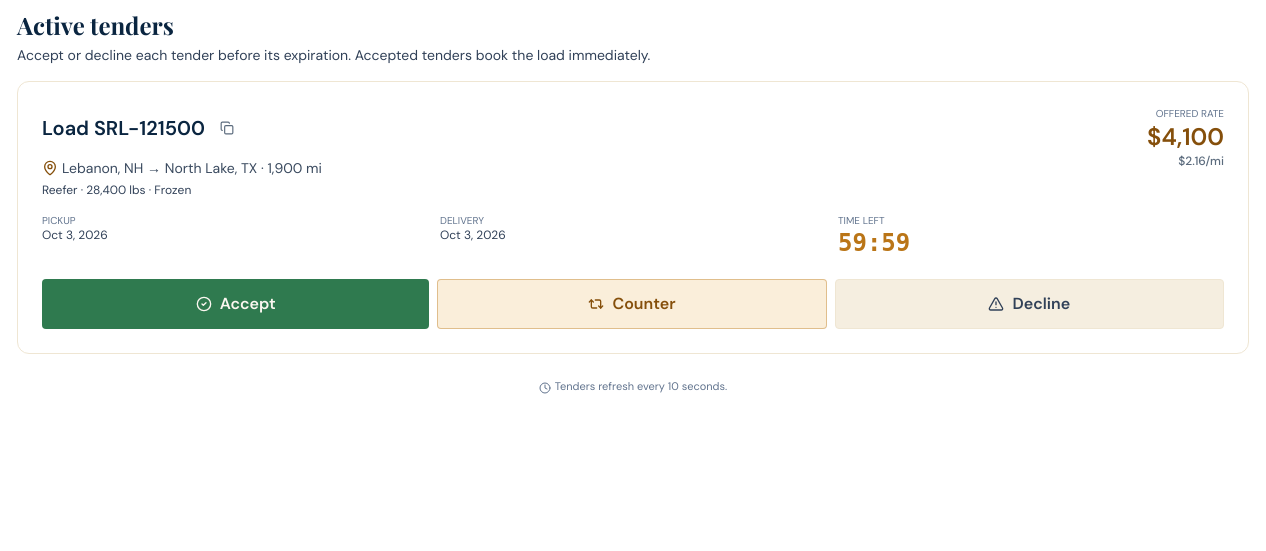
Test case: accepting a tender › still reads sensibly when the session has no email on it
Click the button "Accept": (236, 304) [42,279,429,329]
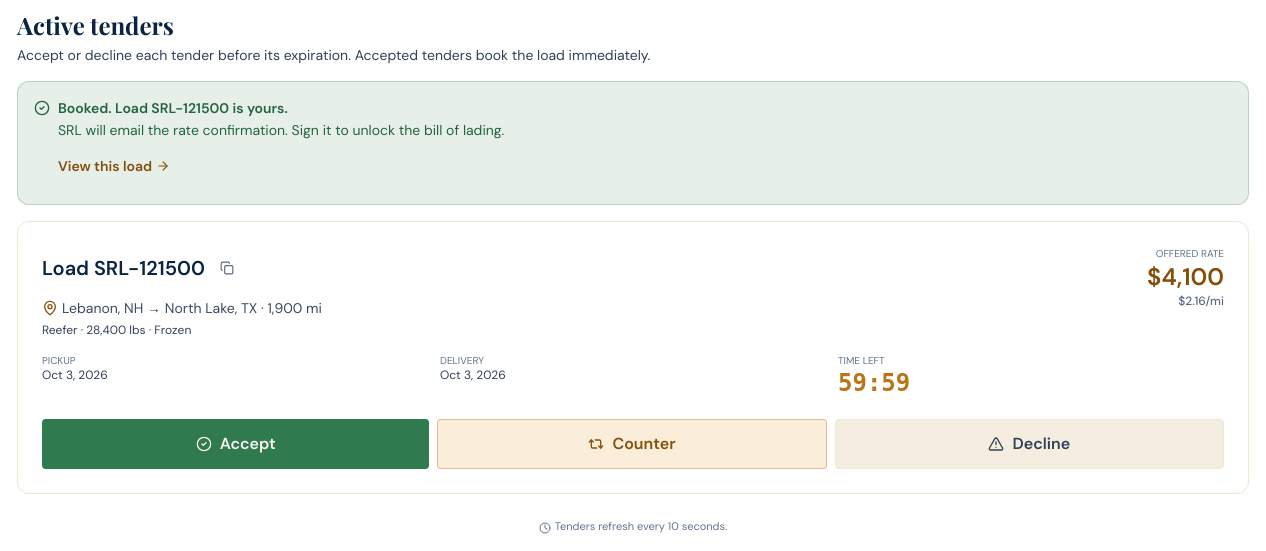
expect the message with test id "accept-confirmation" shows "SRL will email the rate confirmation. Sign it": met, box [17,81,1249,205]
